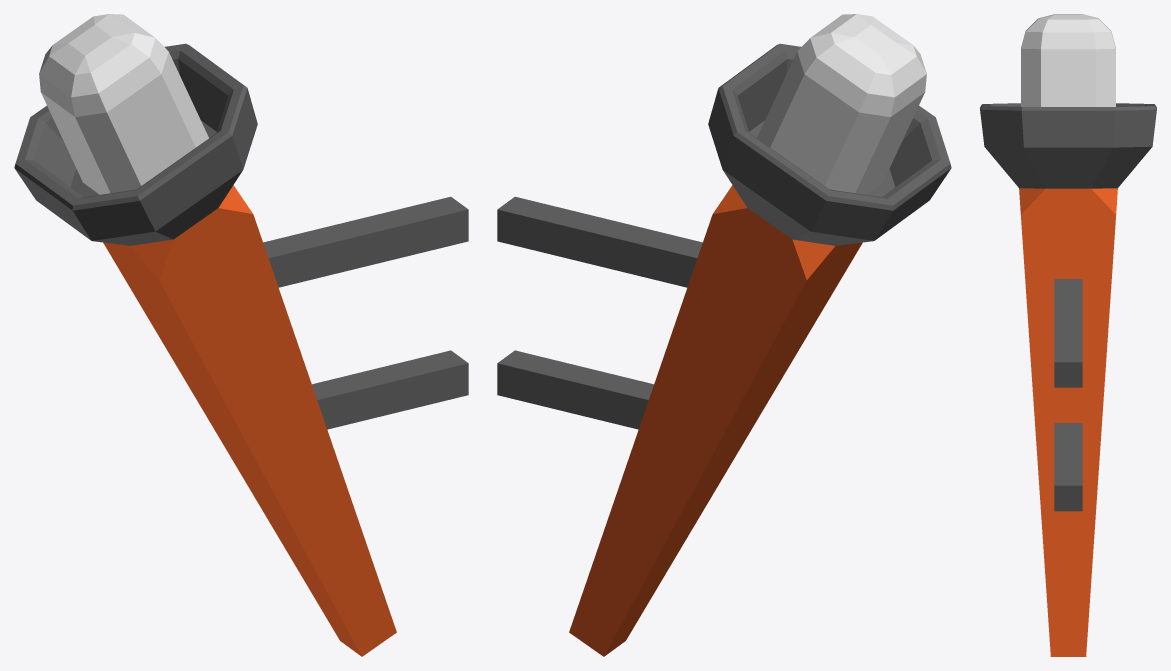
The model's file is torch.fbx.
The picture shows the model from 3 angles, left to right: view 1: azimuth 30°, elevation 25°; view 2: azimuth 150°, elevation 25°; view 3: azimuth 270°, elevation 25°; orthographic projection. The views are drawn at different scales.
Parts seen in each view (by area): view 1: Cube; view 2: Cube; view 3: Cube.
Boxes of the visible parts, left/top/right/bottom form: Cube: left=14, top=14, right=468, bottom=656; Cube: left=497, top=14, right=951, bottom=656; Cube: left=980, top=14, right=1156, bottom=656.
Size of the model in its own units: 1.01 by 1.59 by 0.4651.
